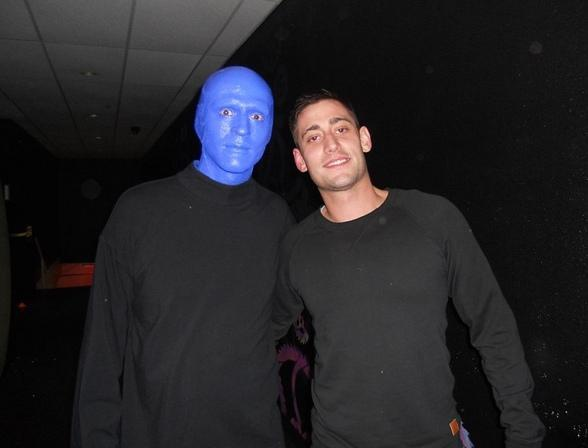bad: (295, 113, 370, 188), (204, 88, 278, 163)
